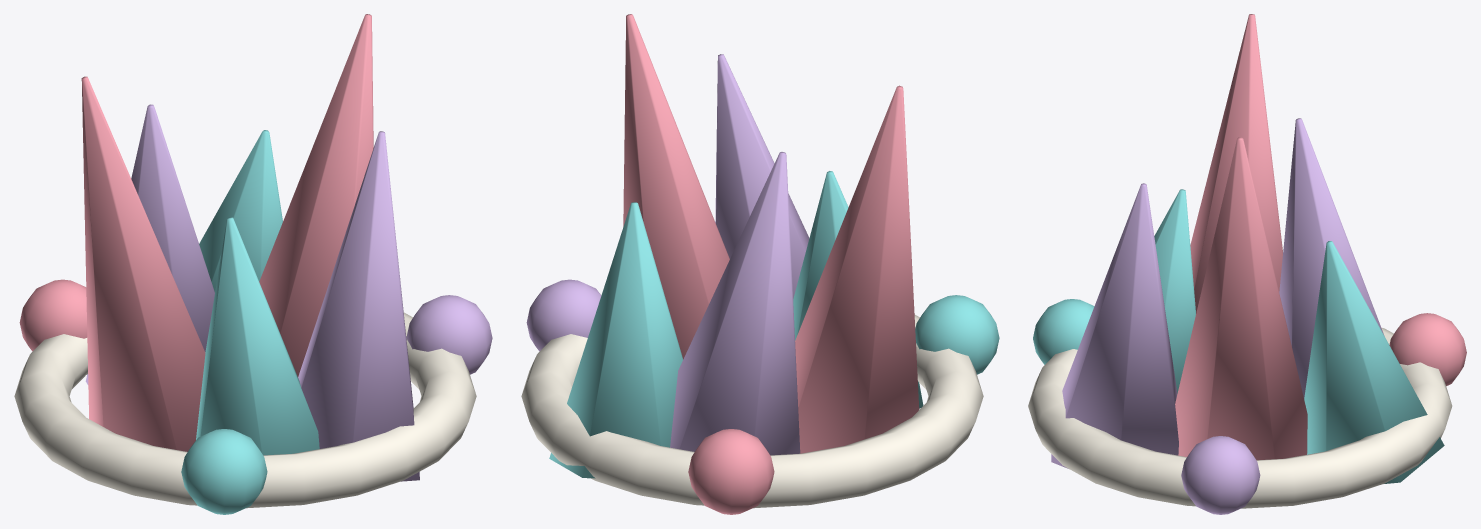
Rendered from treasure_cluster_2.glb.
The picture shows the model from 3 angles, left to right: view 1: azimuth 30°, elevation 25°; view 2: azimuth 150°, elevation 25°; view 3: azimuth 270°, elevation 25°; orthographic projection. The views are drawn at different scales.
Parts seen in each view (by area): view 1: PearlNest.002, Crystal_3.002, Crystal_5, Crystal_0.002, Crystal_4.001, Crystal_2.002, Crystal_1.002, Gem_1.002, Gem_2.002, Gem_0.002; view 2: Crystal_3.002, PearlNest.002, Crystal_2.002, Crystal_1.002, Crystal_0.002, Crystal_5, Gem_0.002, Gem_1.002, Gem_2.002, Crystal_4.001; view 3: Crystal_0.002, PearlNest.002, Crystal_5, Crystal_1.002, Crystal_2.002, Crystal_3.002, Crystal_4.001, Gem_2.002, Gem_0.002, Gem_1.002.
Part boxes in pixels (left/top/right/bottom): PearlNest.002: left=14, top=312, right=476, bottom=508; Crystal_3.002: left=81, top=76, right=205, bottom=451; Crystal_5: left=298, top=131, right=419, bottom=481; Crystal_0.002: left=259, top=14, right=373, bottom=376; Crystal_4.001: left=196, top=217, right=319, bottom=455; Crystal_2.002: left=85, top=104, right=214, bottom=384; Crystal_1.002: left=199, top=130, right=282, bottom=291; Gem_1.002: left=181, top=429, right=267, bottom=514; Gem_2.002: left=406, top=295, right=492, bottom=374; Gem_0.002: left=19, top=279, right=87, bottom=351; Crystal_3.002: left=795, top=85, right=919, bottom=453; PearlNest.002: left=521, top=314, right=983, bottom=508; Crystal_2.002: left=670, top=152, right=800, bottom=455; Crystal_1.002: left=549, top=202, right=683, bottom=478; Crystal_0.002: left=623, top=14, right=729, bottom=359; Crystal_5: left=715, top=54, right=809, bottom=298; Gem_0.002: left=688, top=429, right=774, bottom=514; Gem_1.002: left=915, top=295, right=999, bottom=374; Gem_2.002: left=526, top=279, right=601, bottom=351; Crystal_4.001: left=793, top=171, right=923, bottom=408; Crystal_0.002: left=1175, top=137, right=1307, bottom=460; PearlNest.002: left=1028, top=327, right=1452, bottom=508; Crystal_5: left=1051, top=183, right=1178, bottom=468; Crystal_1.002: left=1304, top=241, right=1444, bottom=483; Crystal_2.002: left=1279, top=118, right=1384, bottom=398; Crystal_3.002: left=1190, top=14, right=1282, bottom=313; Crystal_4.001: left=1154, top=189, right=1195, bottom=393; Gem_2.002: left=1181, top=436, right=1260, bottom=514; Gem_0.002: left=1389, top=313, right=1466, bottom=385; Gem_1.002: left=1033, top=299, right=1094, bottom=364.
Size of the model in its own units: 2.88 by 2.49 by 2.77.
